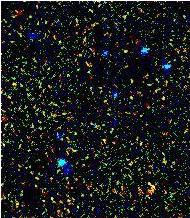star: (46, 116, 76, 146)
